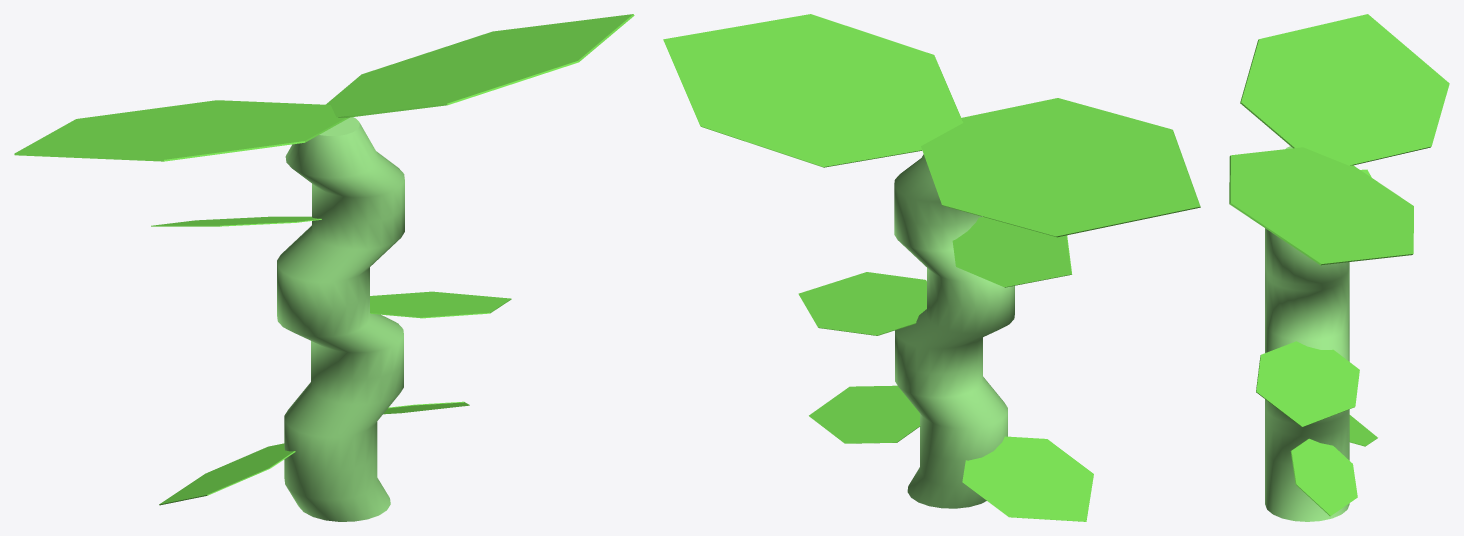
The model's file is LeafVine.fbx.
The picture shows the model from 3 angles, left to right: view 1: azimuth 30°, elevation 25°; view 2: azimuth 150°, elevation 25°; view 3: azimuth 270°, elevation 25°; orthographic projection. The views are drawn at different scales.
Parts seen in each view (by area): view 1: LeafVine:LeafVine:pCube5; view 2: LeafVine:LeafVine:pCube5; view 3: LeafVine:LeafVine:pCube5.
Part boxes in pixels (bbox=[...]): LeafVine:LeafVine:pCube5: bbox=[14, 14, 634, 521]; LeafVine:LeafVine:pCube5: bbox=[663, 14, 1200, 521]; LeafVine:LeafVine:pCube5: bbox=[1229, 14, 1449, 521].
Size of the model in its own units: 1.43 by 0.9795 by 0.5075.
